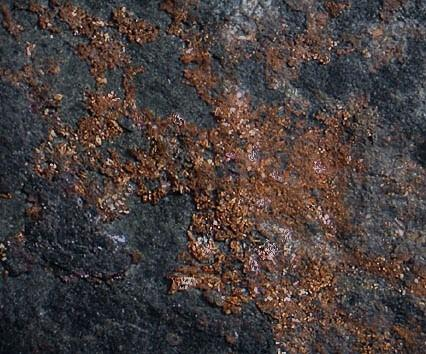copper: (0, 1, 426, 354), (0, 4, 426, 353), (266, 6, 338, 78)
